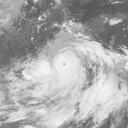cyclone: (43, 48, 88, 86)
